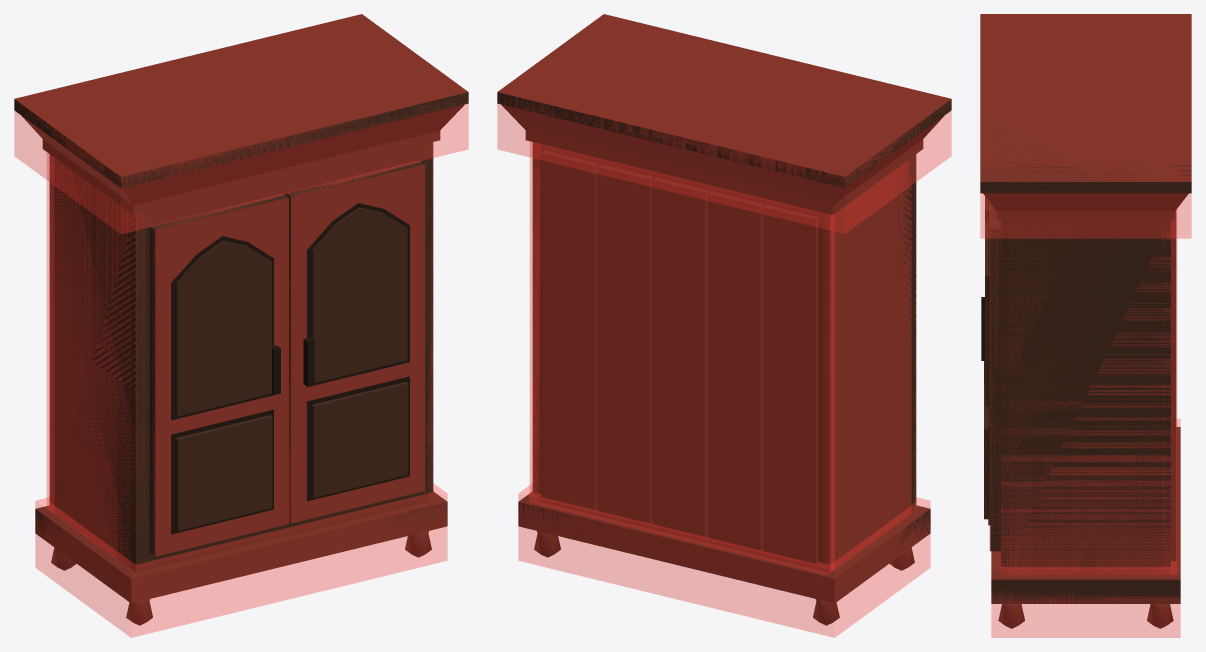
The model's file is CabinetC01.glb.
The picture shows the model from 3 angles, left to right: view 1: azimuth 30°, elevation 25°; view 2: azimuth 150°, elevation 25°; view 3: azimuth 270°, elevation 25°; orthographic projection.
Parts seen in each view (by area): view 1: Body_Wood, Col_Top, DoorLeft_Wood, DoorRight_Wood, Col_Base, Col_SideLeft, Col_DoorRight, Col_DoorLeft, DoorRight_WoodDark, DoorLeft_WoodDark, Col_Back; view 2: Body_Wood, Col_Back, Col_Top, Col_Base, Col_SideLeft, Body_WoodDark, Col_SideRight; view 3: Body_Wood, Col_Top, Col_SideRight, Col_Base, DoorRight_Wood, Col_Back, DoorRight_WoodDark, Col_DoorRight.
Part boxes in pixels (bbox=[...]): Body_Wood: bbox=[14, 14, 468, 625]; Col_Top: bbox=[14, 14, 468, 233]; DoorLeft_Wood: bbox=[149, 194, 288, 556]; DoorRight_Wood: bbox=[285, 161, 424, 522]; Col_Base: bbox=[35, 483, 447, 637]; Col_SideLeft: bbox=[50, 155, 144, 565]; Col_DoorRight: bbox=[289, 161, 424, 523]; Col_DoorLeft: bbox=[152, 194, 288, 556]; DoorRight_WoodDark: bbox=[303, 203, 409, 501]; DoorLeft_WoodDark: bbox=[171, 236, 280, 534]; Col_Back: bbox=[47, 153, 53, 511]; Body_Wood: bbox=[497, 14, 951, 625]; Col_Back: bbox=[530, 142, 834, 574]; Col_Top: bbox=[497, 14, 951, 233]; Col_Base: bbox=[518, 484, 930, 637]; Col_SideLeft: bbox=[830, 160, 915, 571]; Body_WoodDark: bbox=[540, 150, 822, 562]; Col_SideRight: bbox=[533, 160, 540, 493]; Body_Wood: bbox=[980, 14, 1191, 628]; Col_Top: bbox=[980, 14, 1191, 238]; Col_SideRight: bbox=[1001, 250, 1170, 574]; Col_Base: bbox=[991, 419, 1180, 637]; DoorRight_Wood: bbox=[984, 203, 1000, 551]; Col_Back: bbox=[1163, 210, 1176, 574]; DoorRight_WoodDark: bbox=[981, 217, 990, 525]; Col_DoorRight: bbox=[989, 203, 1000, 550].
Size of the model in its own units: 4.44 by 5.72 by 2.36.
